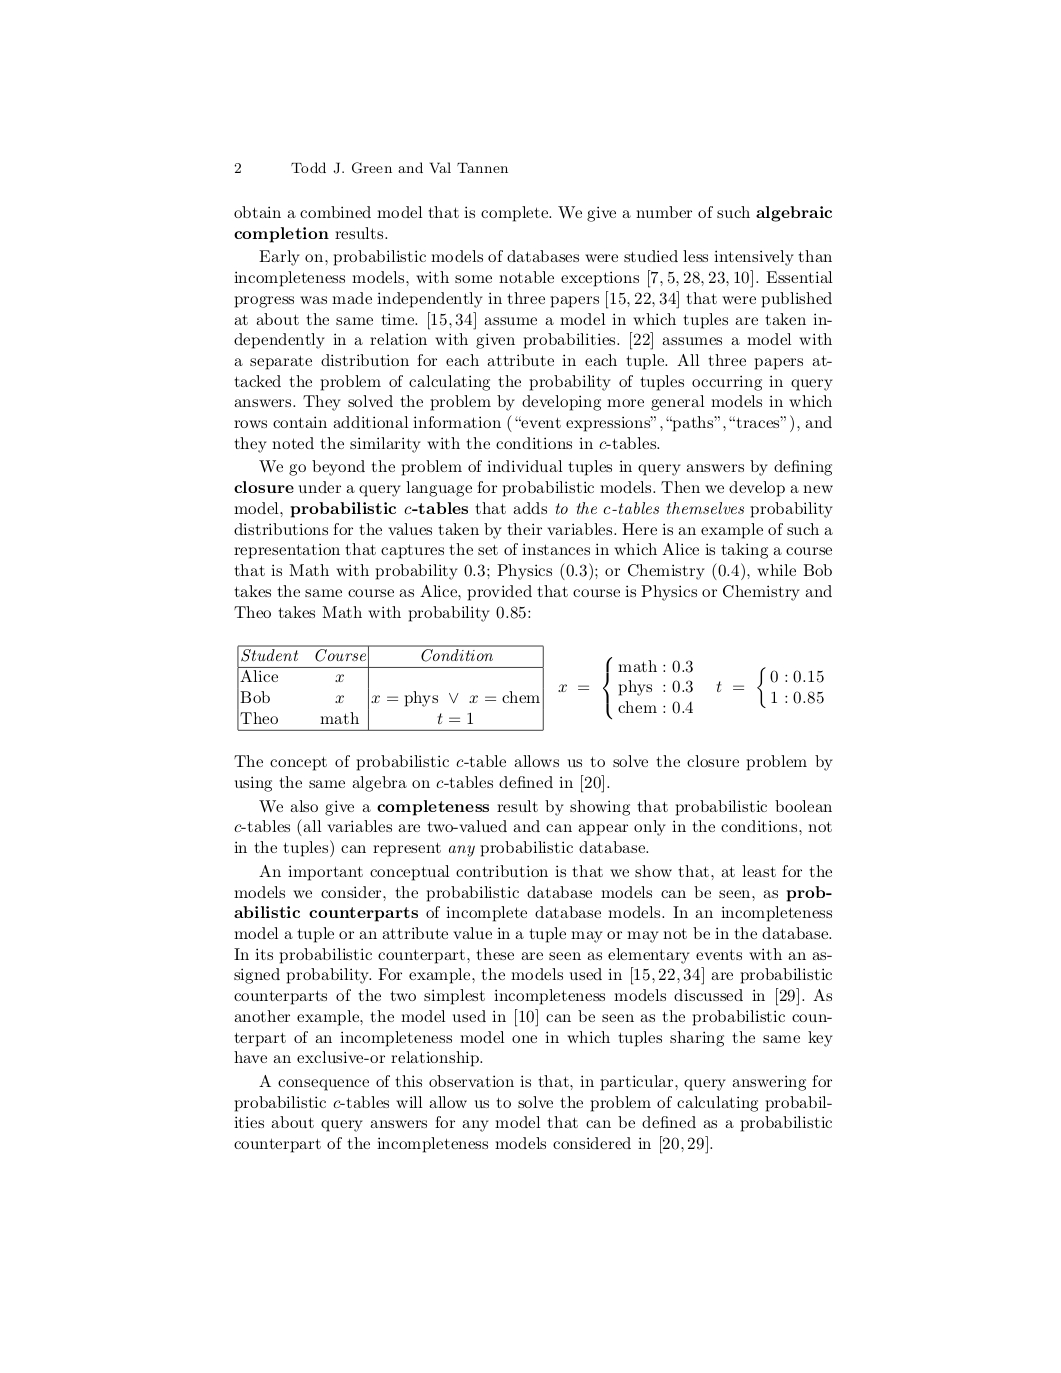Table: (237, 645, 543, 730)
formula: (558, 658, 822, 719)
